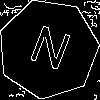N: (23, 24, 74, 80)
